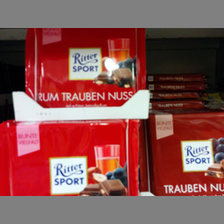chocolate: (1, 121, 141, 196), (26, 28, 146, 108), (149, 114, 224, 197)
